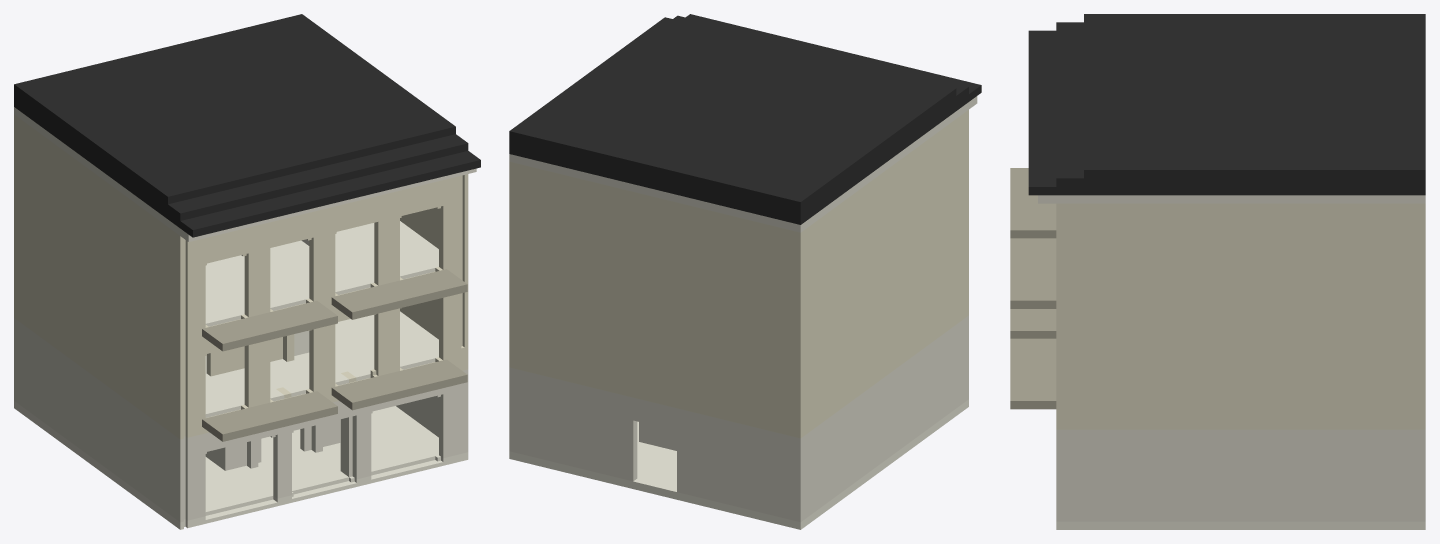
The model's file is Atletics.obj.
3 renders of one model, left to right at view 1: azimuth 30°, elevation 25°; view 2: azimuth 150°, elevation 25°; view 3: azimuth 270°, elevation 25°, orthographic. The views are drawn at different scales.
Size of the model in its own units: 8 by 8.6 by 9.
1 material, 1 textured.
